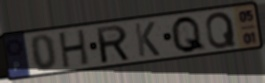0: (29, 33, 60, 73)
H: (58, 27, 90, 71)
K: (132, 20, 162, 59)
Q: (169, 15, 208, 55), (204, 10, 238, 51)
R: (94, 23, 132, 65)
